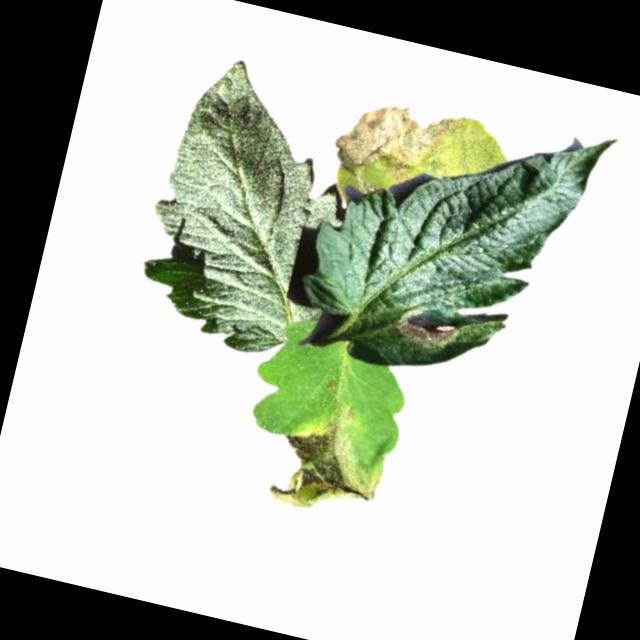Late_blight: (266, 407, 393, 526), (329, 88, 460, 193), (396, 310, 458, 349)
healthy: (127, 47, 372, 367)
